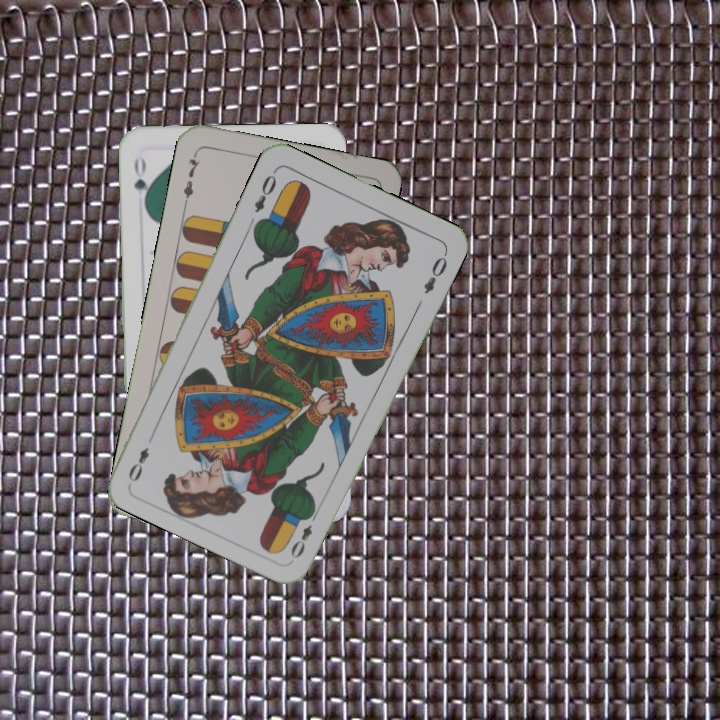E7: (179, 148, 204, 207)
EO: (286, 506, 321, 561), (250, 166, 279, 215)
GO: (129, 151, 153, 210)
